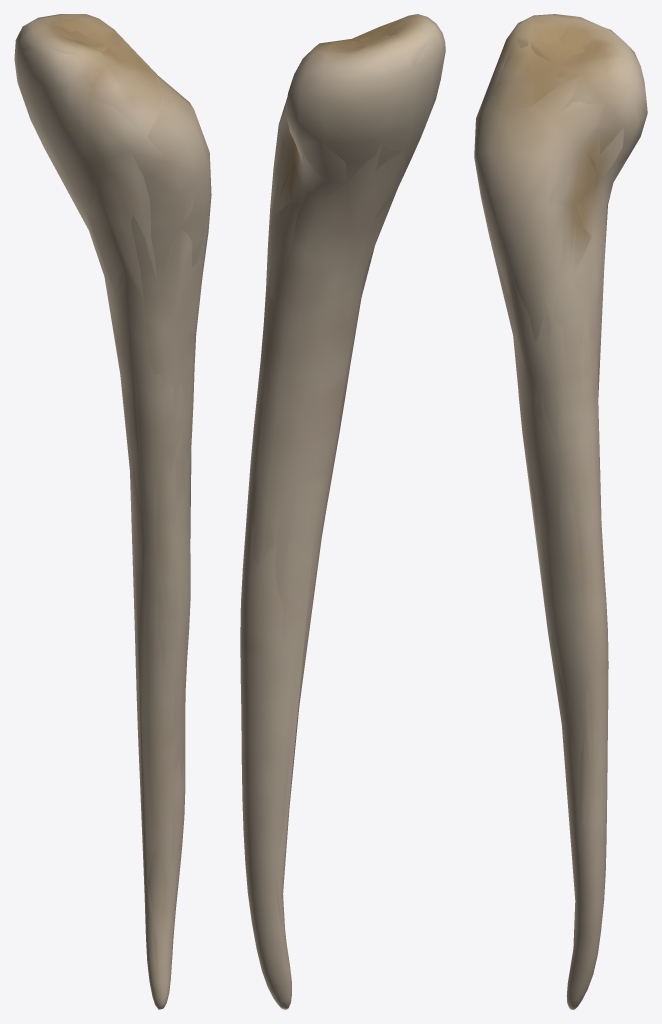
Rendered from R metatarsi quartum.fbx.
3 renders of one model, left to right at view 1: azimuth 30°, elevation 25°; view 2: azimuth 150°, elevation 25°; view 3: azimuth 270°, elevation 25°, orthographic. The views are drawn at different scales.
Parts seen in each view (by area): view 1: R metatarsi quartum, R metatarsi quartum low; view 2: R metatarsi quartum low, R metatarsi quartum; view 3: R metatarsi quartum, R metatarsi quartum low.
Boxes of the visible parts, x1,y1,x2,y2 form: R metatarsi quartum: (14, 14, 211, 1009); R metatarsi quartum low: (16, 15, 211, 979); R metatarsi quartum low: (242, 14, 432, 1009); R metatarsi quartum: (240, 14, 445, 1009); R metatarsi quartum: (474, 14, 647, 1009); R metatarsi quartum low: (474, 14, 646, 962).
Bounding box in the file's own units: 3.6 × 19.98 × 3.35.
Materials: 1 (1 with a texture image).
